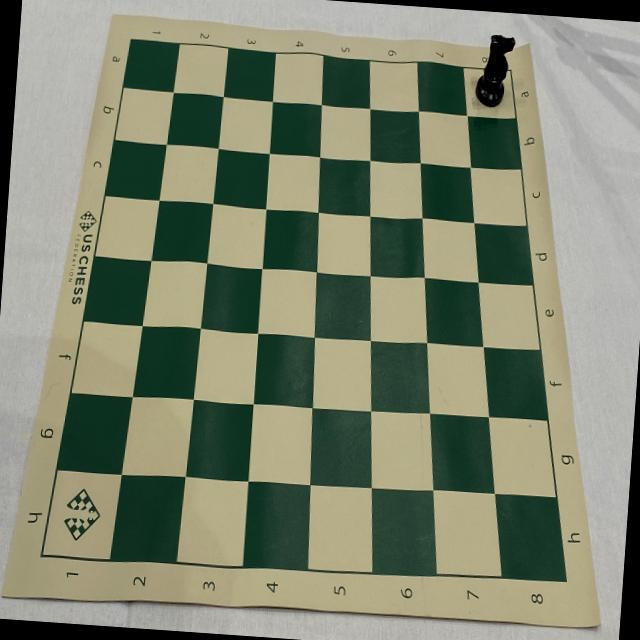black-knight: (473, 33, 516, 109)
